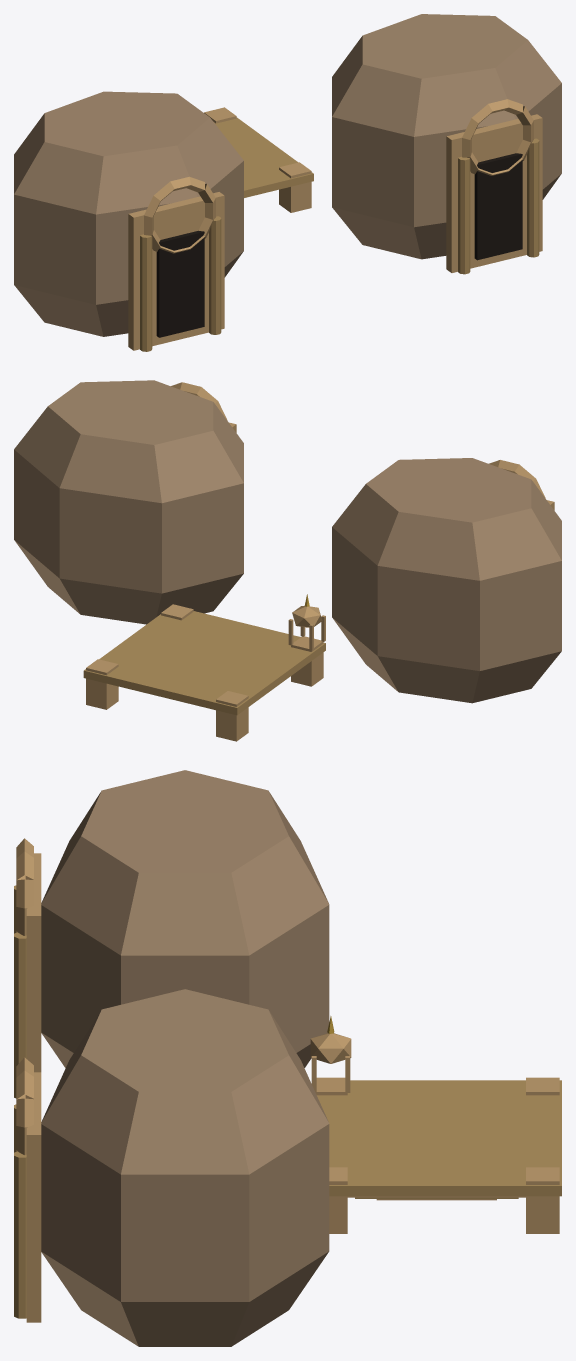
The model's file is cat_row_broken.glb.
3 renders of one model, top to bottom at view 1: azimuth 30°, elevation 25°; view 2: azimuth 150°, elevation 25°; view 3: azimuth 270°, elevation 25°, orthographic. The views are drawn at different scales.
Visible parts, largest first — view 1: cat_row_piece1, cat_row_piece5, cat_row_piece2, cat_row_piece9, cat_row_piece6, cat_row_piece4, cat_row_piece13, cat_row_piece11, cat_row_piece3, cat_row_piece0, cat_row_piece8, cat_row_piece10 (+1 smaller); view 2: cat_row_piece1, cat_row_piece10, cat_row_piece2, cat_row_piece8, cat_row_piece0, cat_row_piece6, cat_row_piece12, cat_row_piece5, cat_row_piece4, cat_row_piece13, cat_row_piece7, cat_row_piece9 (+1 smaller); view 3: cat_row_piece5, cat_row_piece9, cat_row_piece10, cat_row_piece3, cat_row_piece0, cat_row_piece1, cat_row_piece8, cat_row_piece13, cat_row_piece6, cat_row_piece4.
Boxes of the visible parts, box(x1,y1,x2,y2) form: cat_row_piece1: box(248, 14, 475, 232); cat_row_piece5: box(425, 15, 561, 274); cat_row_piece2: box(14, 195, 188, 351); cat_row_piece9: box(146, 93, 233, 334); cat_row_piece6: box(14, 107, 159, 252); cat_row_piece4: box(352, 15, 475, 259); cat_row_piece13: box(100, 92, 169, 209); cat_row_piece11: box(147, 170, 216, 337); cat_row_piece3: box(170, 93, 252, 277); cat_row_piece0: box(62, 91, 130, 148); cat_row_piece8: box(240, 14, 425, 175); cat_row_piece10: box(204, 107, 251, 155); cat_row_piece1: box(59, 386, 243, 628); cat_row_piece10: box(83, 594, 307, 741); cat_row_piece2: box(291, 562, 561, 703); cat_row_piece8: box(39, 432, 208, 650); cat_row_piece0: box(291, 484, 518, 675); cat_row_piece6: box(358, 479, 561, 642); cat_row_piece12: box(449, 519, 561, 670); cat_row_piece5: box(14, 380, 220, 613); cat_row_piece4: box(42, 387, 236, 624); cat_row_piece13: box(332, 467, 529, 593); cat_row_piece7: box(231, 521, 491, 716); cat_row_piece9: box(369, 458, 533, 486); cat_row_piece5: box(14, 1043, 313, 1346); cat_row_piece9: box(14, 817, 236, 1098); cat_row_piece10: box(318, 1016, 561, 1233); cat_row_piece3: box(85, 869, 409, 1159); cat_row_piece0: box(125, 793, 402, 1102); cat_row_piece1: box(34, 989, 352, 1233); cat_row_piece8: box(285, 1052, 485, 1265); cat_row_piece13: box(34, 791, 277, 1007); cat_row_piece6: box(14, 770, 329, 1052); cat_row_piece4: box(34, 1044, 318, 1309).
Size of the model in its own units: 5.78 by 1.9 by 3.7.
